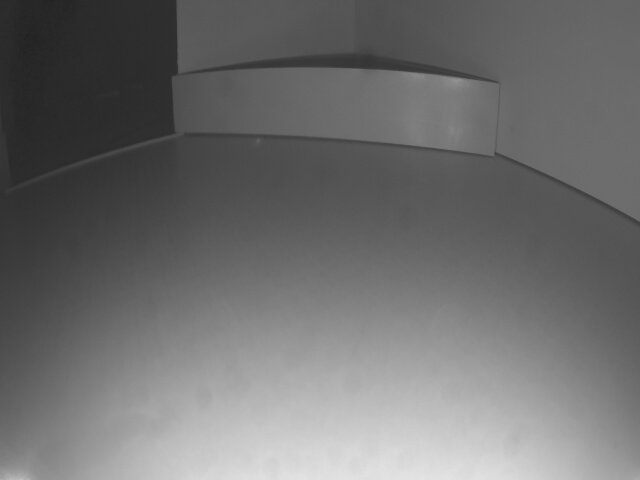Red: (173, 66, 504, 157)
